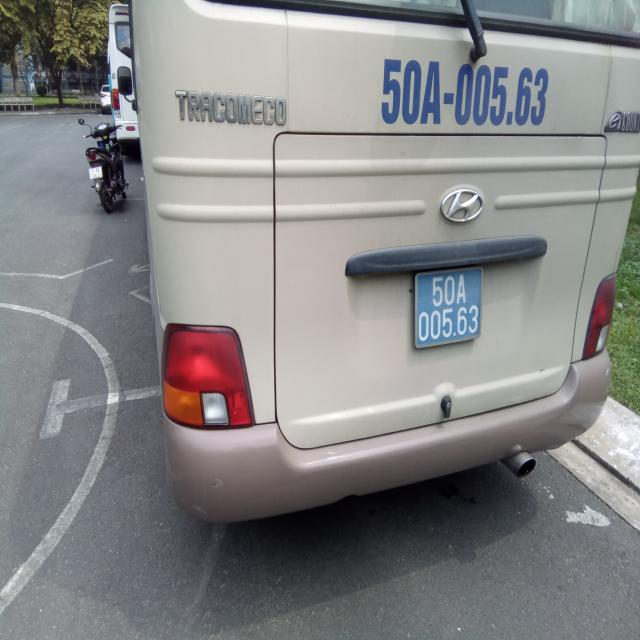bien_xanh: (408, 271, 491, 348)
